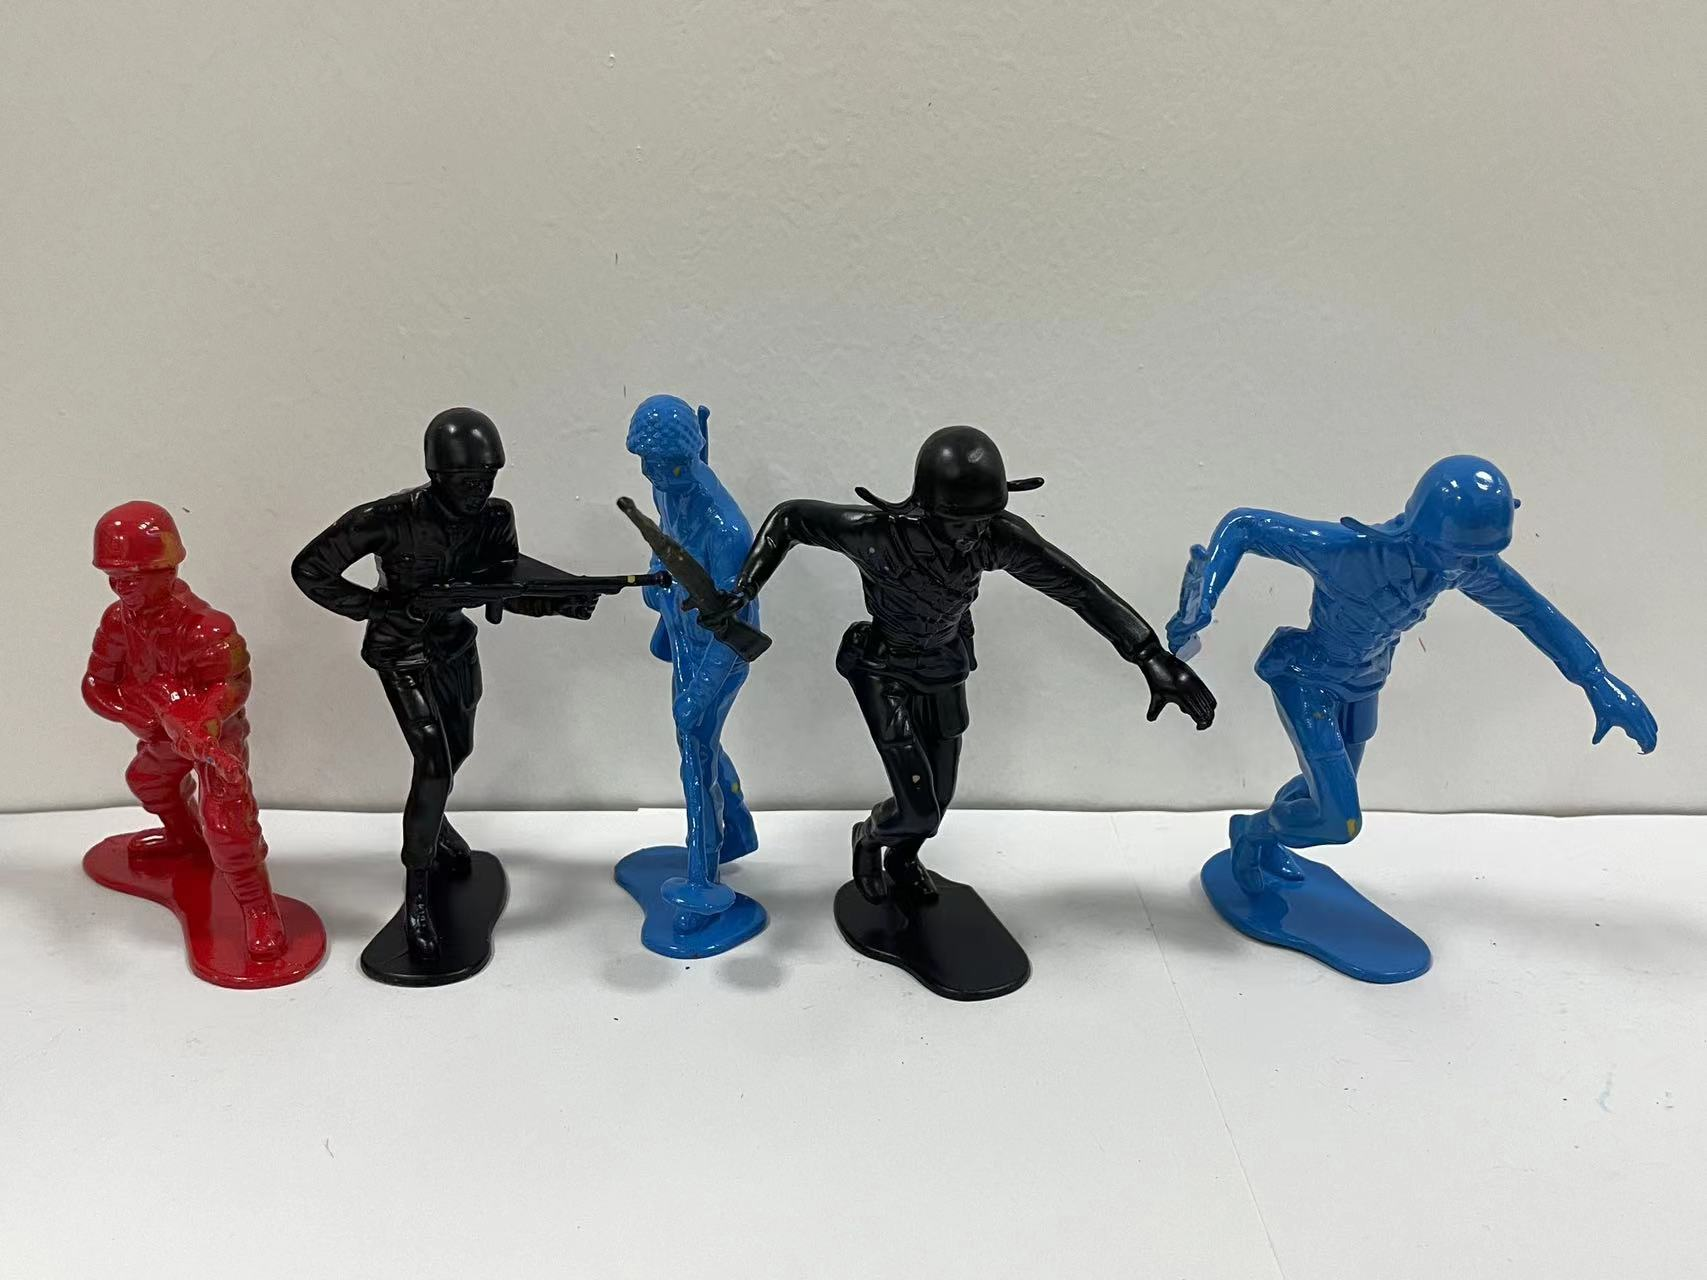black: (712, 407, 1185, 1025), (277, 379, 622, 1004)
blue: (1151, 434, 1679, 1021), (586, 360, 784, 1033)
red: (40, 484, 337, 1047)
